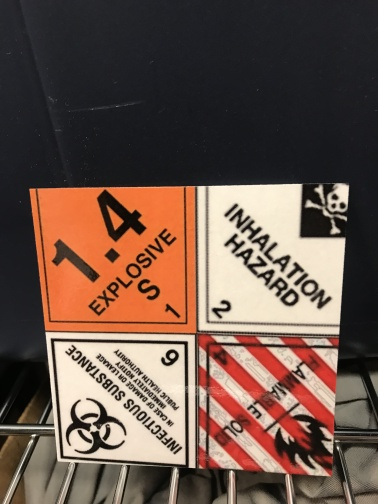Explosive: (28, 186, 197, 334)
FlammableSolid: (198, 333, 339, 476)
InfectiousSubstance: (44, 332, 195, 468)
InhalationHazard: (197, 182, 353, 335)
